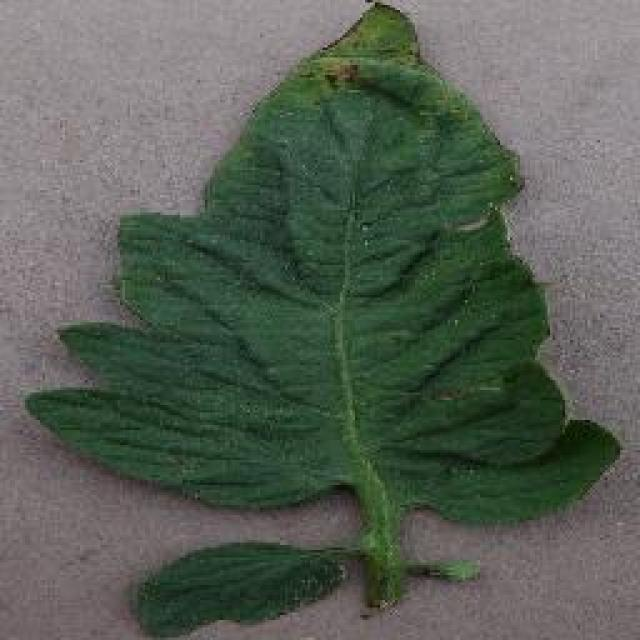Tomato___Bacterial_spot: (19, 3, 627, 638)
